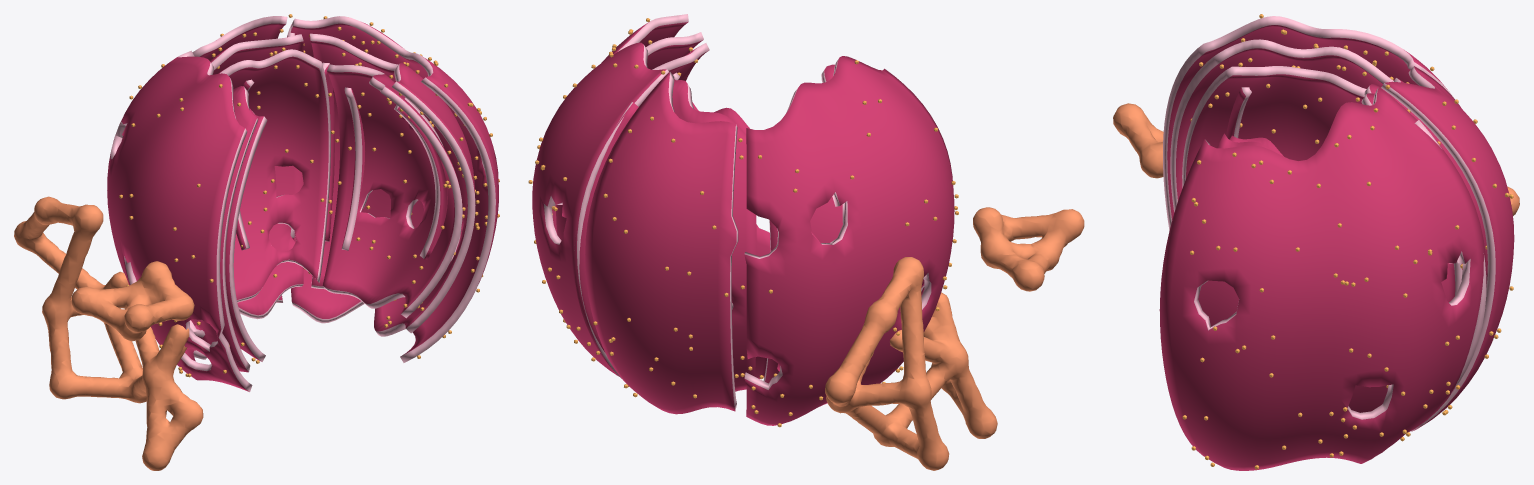
The model's file is er_nuclear.glb.
3 renders of one model, left to right at view 1: azimuth 30°, elevation 25°; view 2: azimuth 150°, elevation 25°; view 3: azimuth 270°, elevation 25°, orthographic. The views are drawn at different scales.
Visible parts, largest first — view 1: er_rough, er_smooth, er_ribosome; view 2: er_rough, er_smooth, er_ribosome; view 3: er_rough, er_smooth, er_ribosome.
Boxes of the visible parts, left/top/right/bottom form: er_rough: left=107, top=16, right=498, bottom=391; er_smooth: left=14, top=196, right=203, bottom=470; er_ribosome: left=119, top=14, right=499, bottom=377; er_rough: left=532, top=14, right=954, bottom=425; er_smooth: left=825, top=207, right=1084, bottom=470; er_ribosome: left=528, top=18, right=958, bottom=427; er_rough: left=1159, top=16, right=1514, bottom=470; er_smooth: left=1113, top=103, right=1519, bottom=215; er_ribosome: left=1182, top=14, right=1513, bottom=469.
Size of the model in its own units: 3.51 by 2.78 by 2.52.
